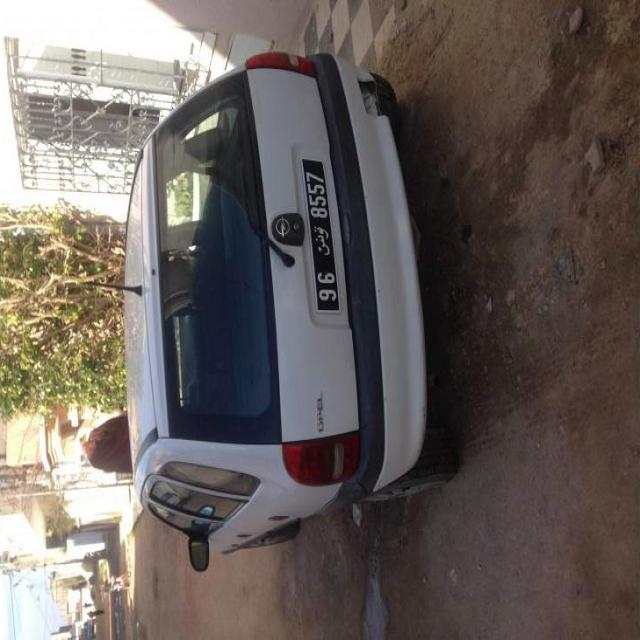licence plate: (299, 158, 342, 315)
